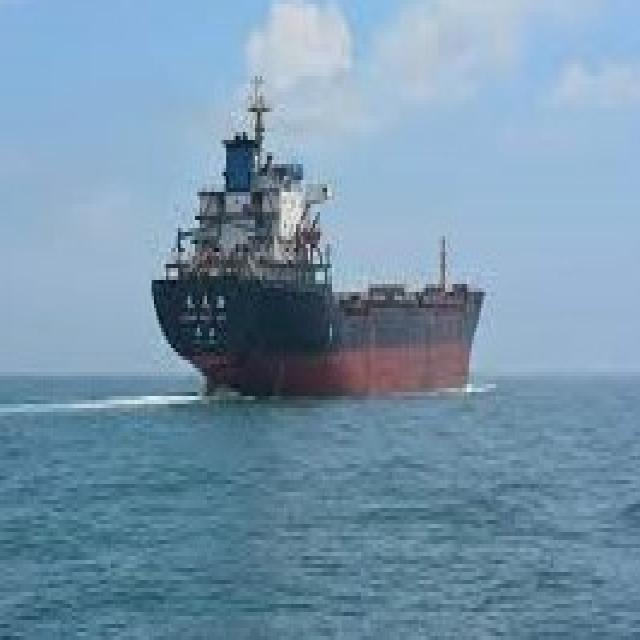cargoship: (149, 82, 492, 408)
